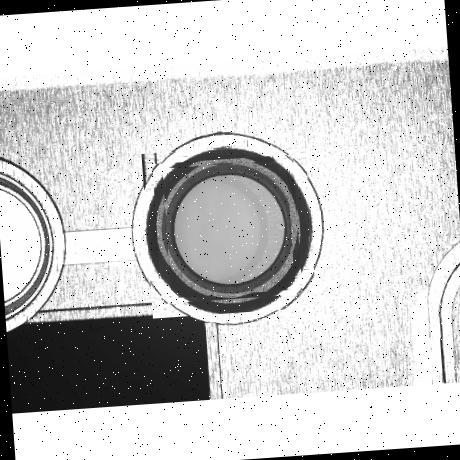Hole: (141, 142, 317, 318)
Hole2: (153, 154, 303, 304)
Hole3: (162, 160, 296, 298)
Hole4: (172, 172, 288, 288)
